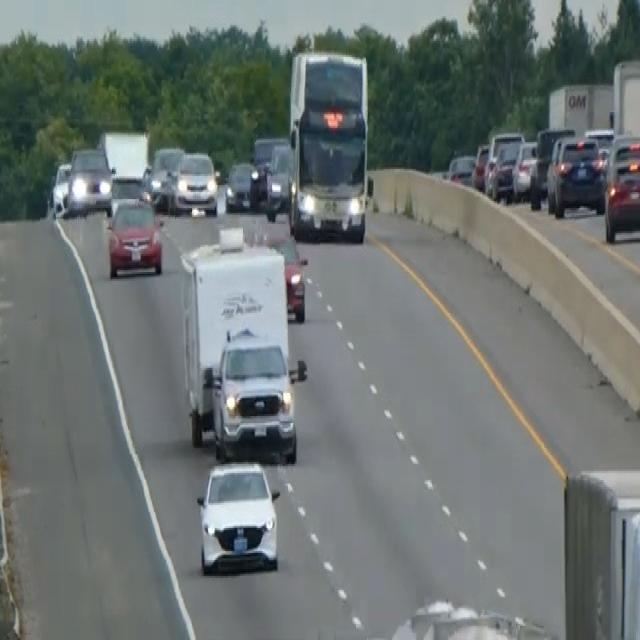bus: (286, 48, 372, 244)
car: (195, 457, 280, 574), (105, 194, 164, 277), (546, 133, 604, 217), (602, 132, 639, 242), (266, 229, 308, 322), (529, 125, 574, 206), (66, 144, 113, 215), (173, 149, 218, 215), (483, 130, 523, 199), (250, 133, 288, 203), (147, 144, 183, 208), (265, 142, 291, 214), (108, 169, 147, 215), (224, 158, 255, 212), (511, 139, 538, 199), (51, 160, 72, 215), (446, 151, 476, 185), (248, 158, 269, 206), (471, 140, 489, 190)
truck: (176, 226, 294, 446)
